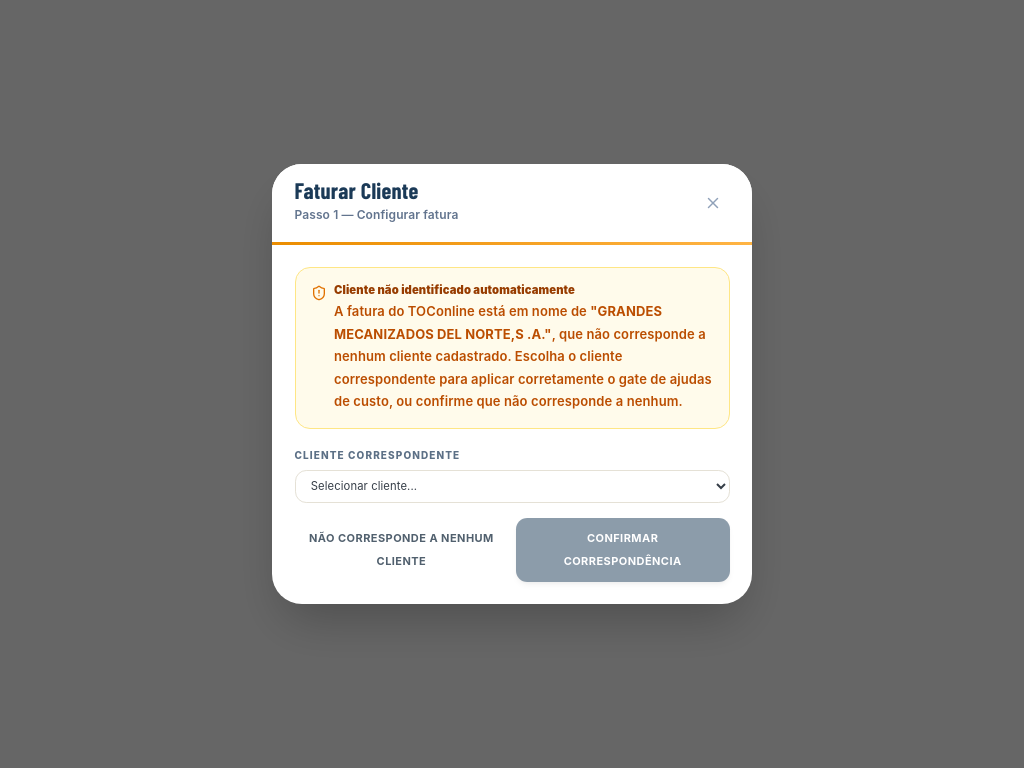
FaturarClienteModal — resolução manual de clientes "toc:" (Fase 2b, Ponto 2) › escolher um cliente real no painel de resolução substitui o "toc:" pelo cliente real e liberta o formulário
Step 1. Select "CLIENTE REAL LDA" in the dropdown showing "Selecionar cliente..." → point(512, 486), box top-left (294, 470), bottom-right (730, 503)
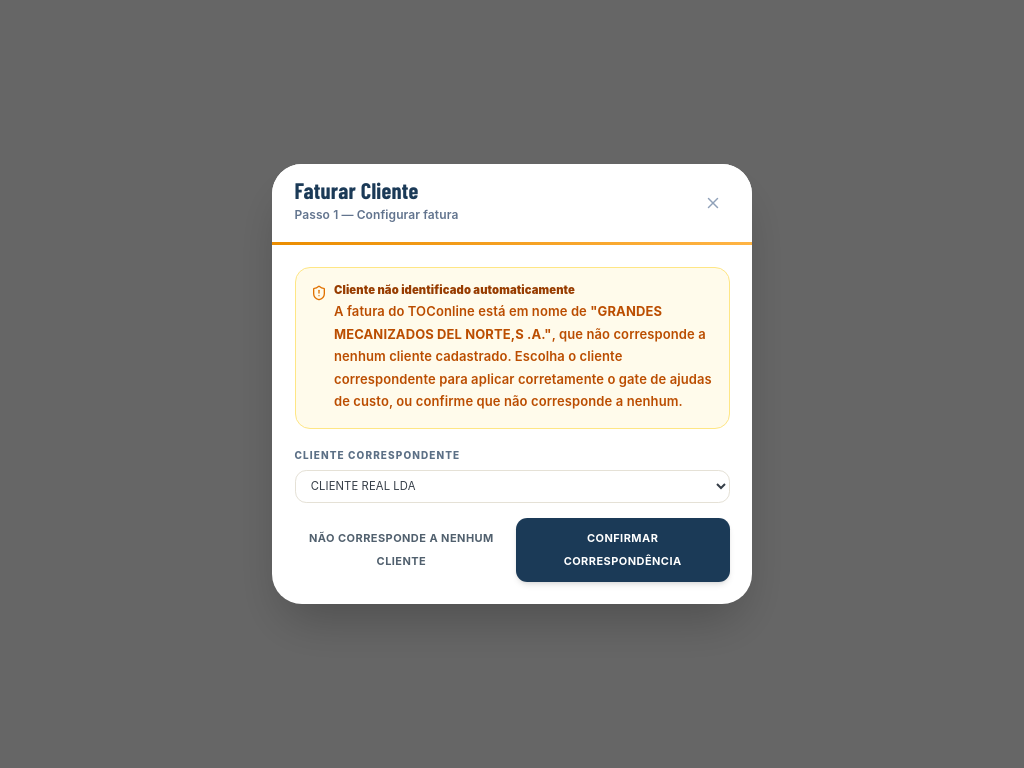
Step 2. Click the button "Confirmar correspondência" → point(623, 550), box top-left (516, 518), bottom-right (730, 582)
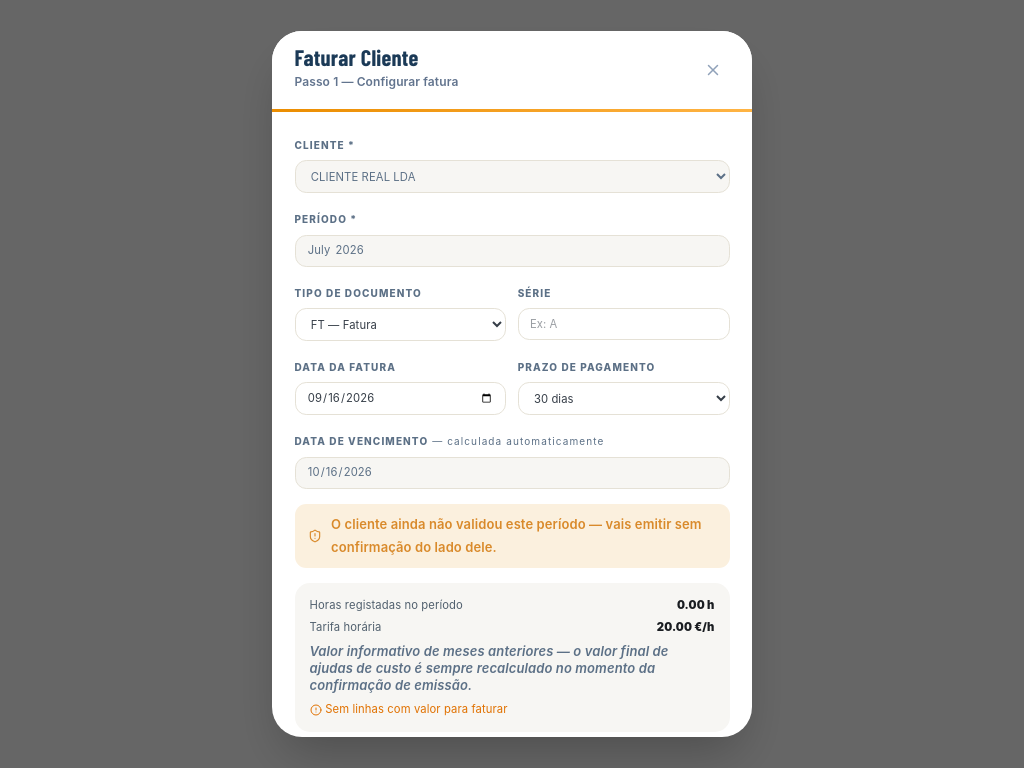
Now the dropdown showing "CLIENTE REAL LDA" below "Cliente *" is shown, box top-left (294, 160), bottom-right (730, 194)
Now the text "Cliente não identificado automaticamente" is gone
